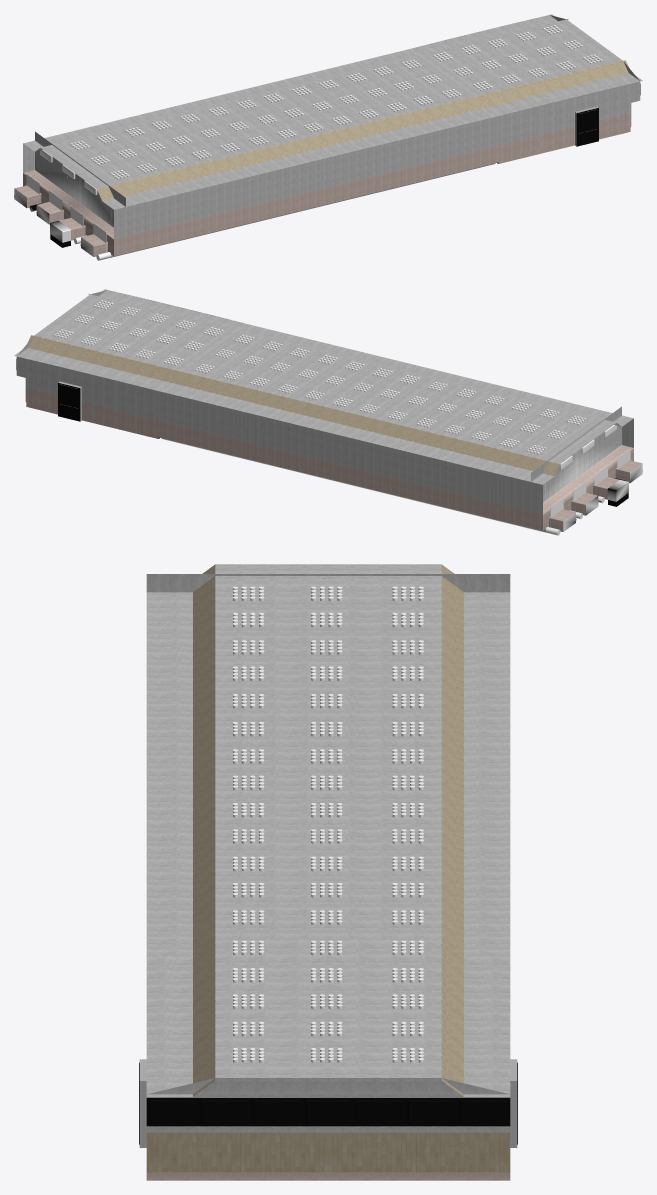
The picture shows the model from 3 angles, top to bottom: view 1: azimuth 30°, elevation 25°; view 2: azimuth 150°, elevation 25°; view 3: azimuth 270°, elevation 25°; orthographic projection. The views are drawn at different scales.
Visible parts, largest first — view 1: Plane001, Cylinder003; view 2: Plane001, Cylinder003; view 3: Plane001, Cylinder003.
Boxes of the visible parts, x1,y1,x2,y2 form: Plane001: (14,14,642,260); Cylinder003: (70,25,602,179); Plane001: (14,289,642,535); Cylinder003: (54,300,586,454); Plane001: (139,564,517,1180); Cylinder003: (233,586,423,1062).
Size of the model in its own units: 2557 by 277 by 761.
Materials: 12 (3 with a texture image).
